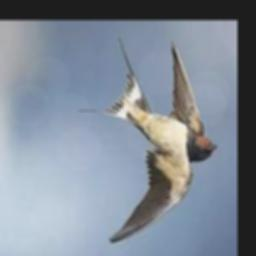Swallow: (78, 38, 216, 244)
